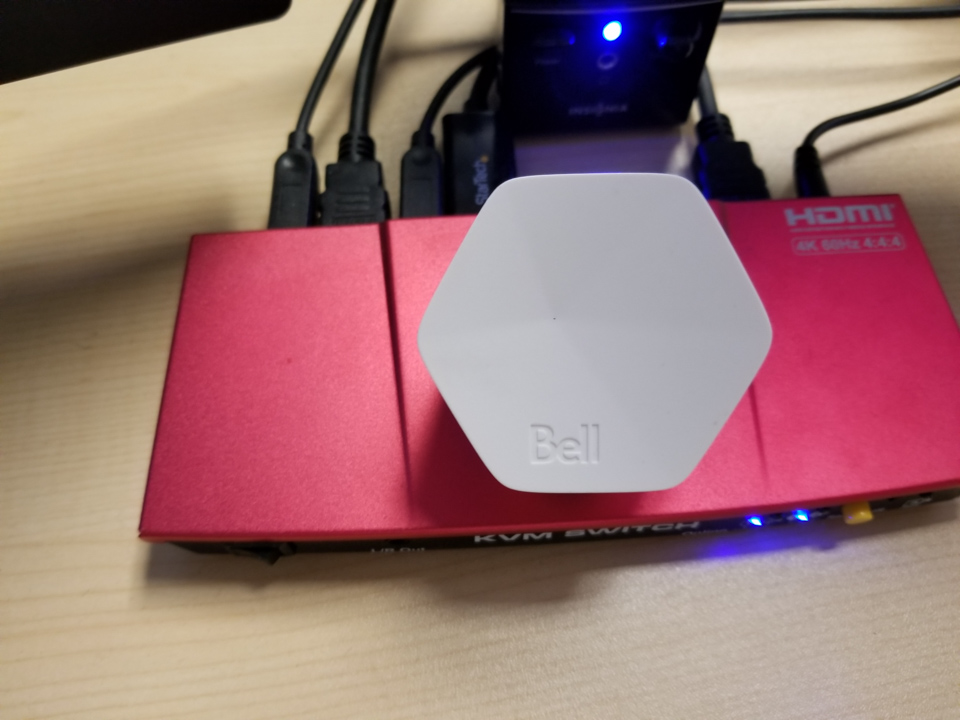pod: (411, 169, 786, 504)
